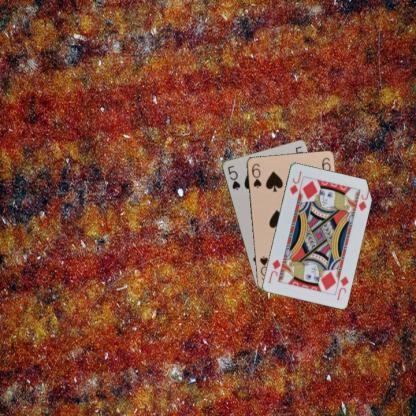5s: (224, 162, 242, 192)
6s: (248, 160, 262, 190)
Jd: (286, 168, 302, 196), (334, 273, 350, 301)
